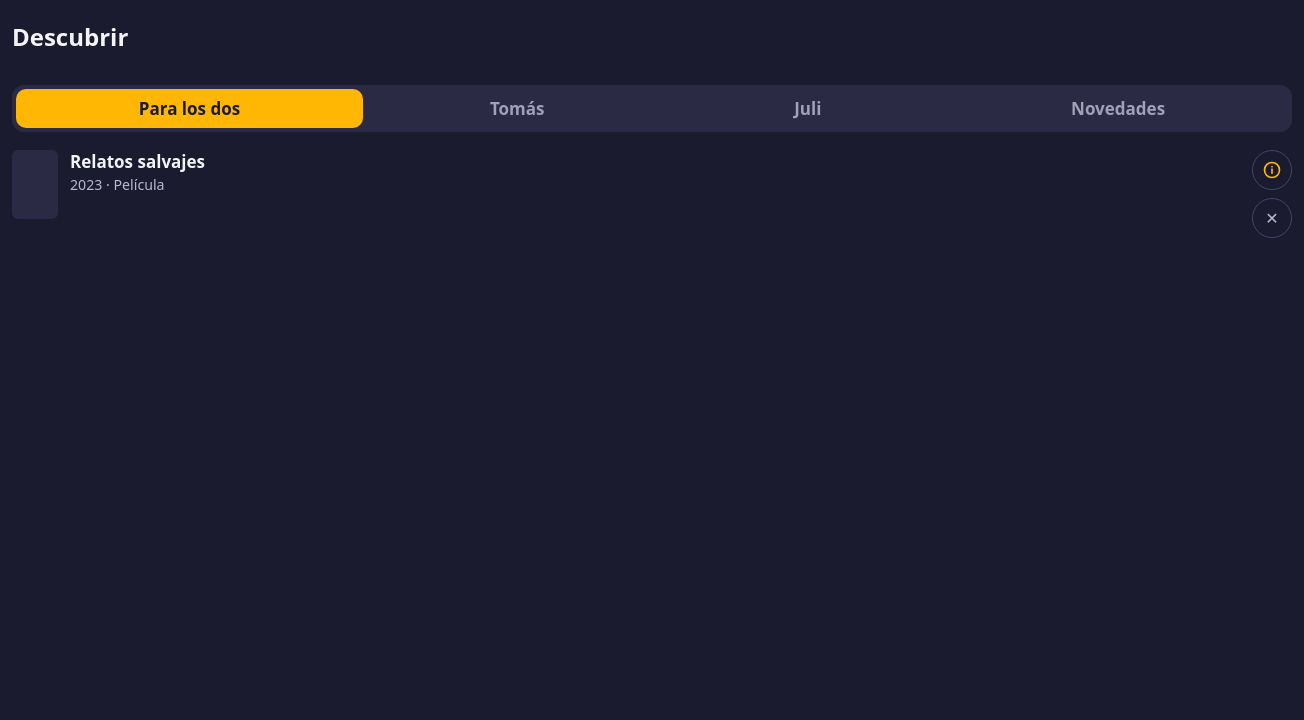
Novedades shows En cines and En sus plataformas, with the chosen platforms under the subtitle
Click the button "Novedades" at (1118, 108), box x1=948 y1=89 x2=1288 y2=128
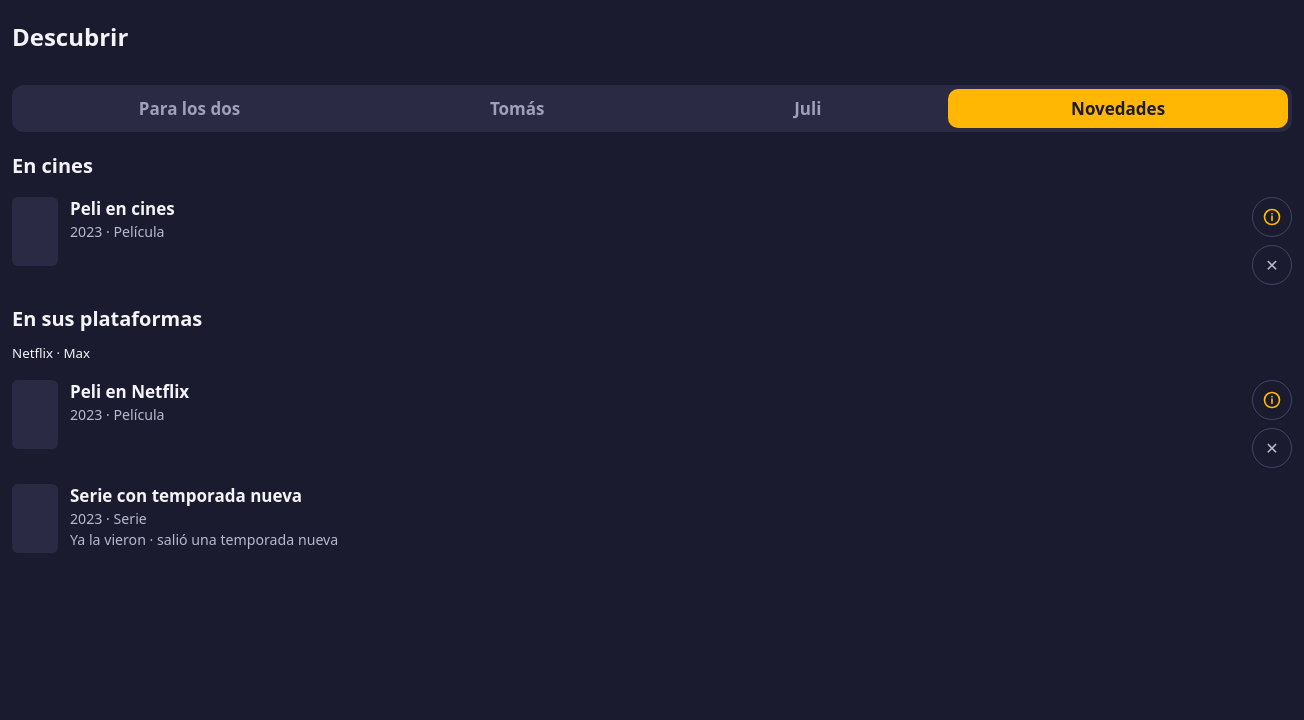
Check: the heading "En cines" is shown, box x1=12 y1=152 x2=93 y2=179
Check: the heading "En sus plataformas" is shown, box x1=12 y1=305 x2=202 y2=332
Check: the text "Netflix · Max" is shown, box x1=12 y1=344 x2=90 y2=362
